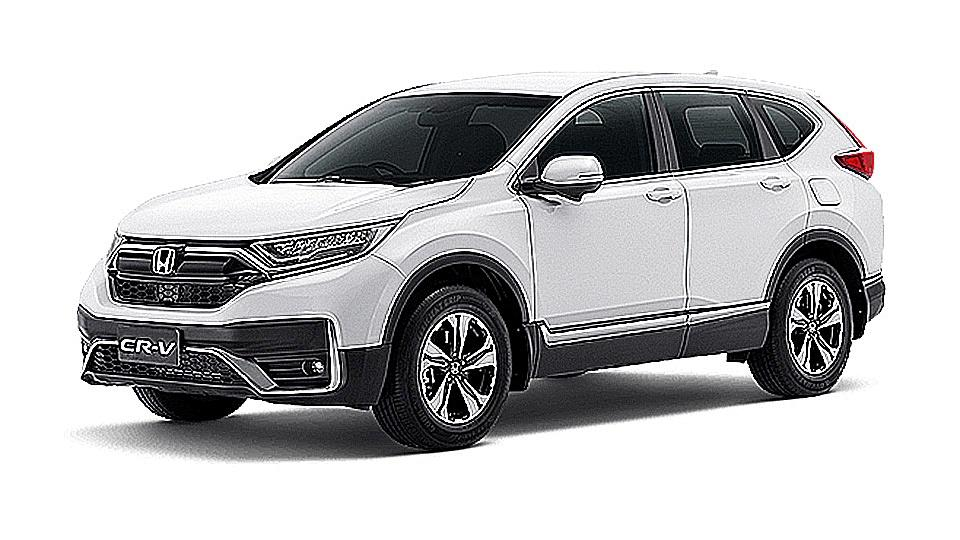Car hood: (109, 169, 481, 248)
Fender - -F-L-: (376, 158, 544, 389)
Fender - -R-L-: (779, 142, 872, 257)
Front bumper: (74, 272, 403, 428)
Headlight - -L-: (230, 215, 390, 293)
Headlight - -R-: (102, 229, 153, 278)
Passenger-s door - -F-L-: (537, 74, 685, 345)
Passenger-s door - -R-L-: (675, 74, 814, 329)
Rear bumper: (835, 242, 915, 345)
Rear light - -L-: (814, 98, 891, 181)
Side bumper - -L-: (510, 287, 778, 387)
Side mirror - -L-: (522, 144, 611, 213)
